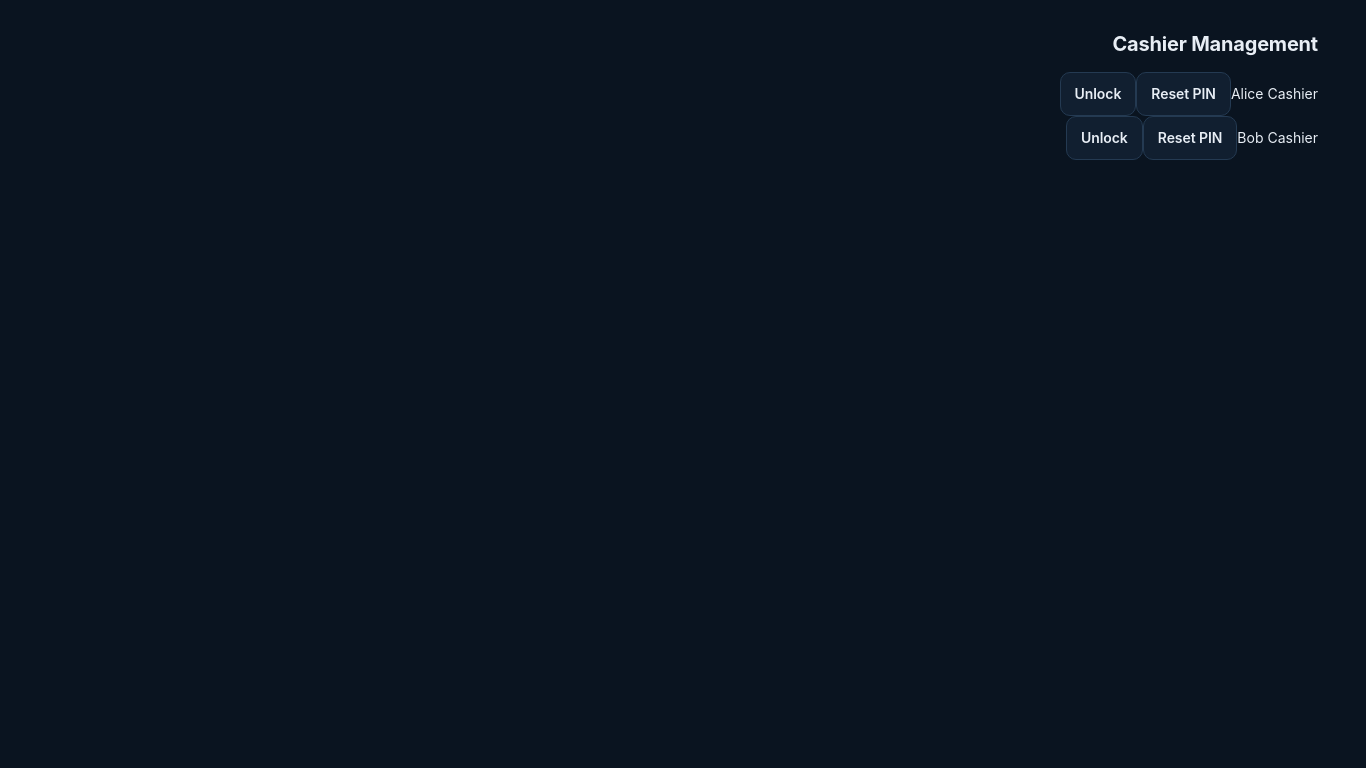
Test: CashierManagement (T078) › Reset PIN action (T072 bridge) › shows generic error message on refused (no category in DOM)
The image size is (1366, 768).
Expected: the text "Alice Cashier" is shown, x1=1231 y1=85 x2=1318 y2=102
Click the button "Reset PIN" next to "Alice Cashier" at (1184, 94), box x1=1136 y1=72 x2=1231 y2=116
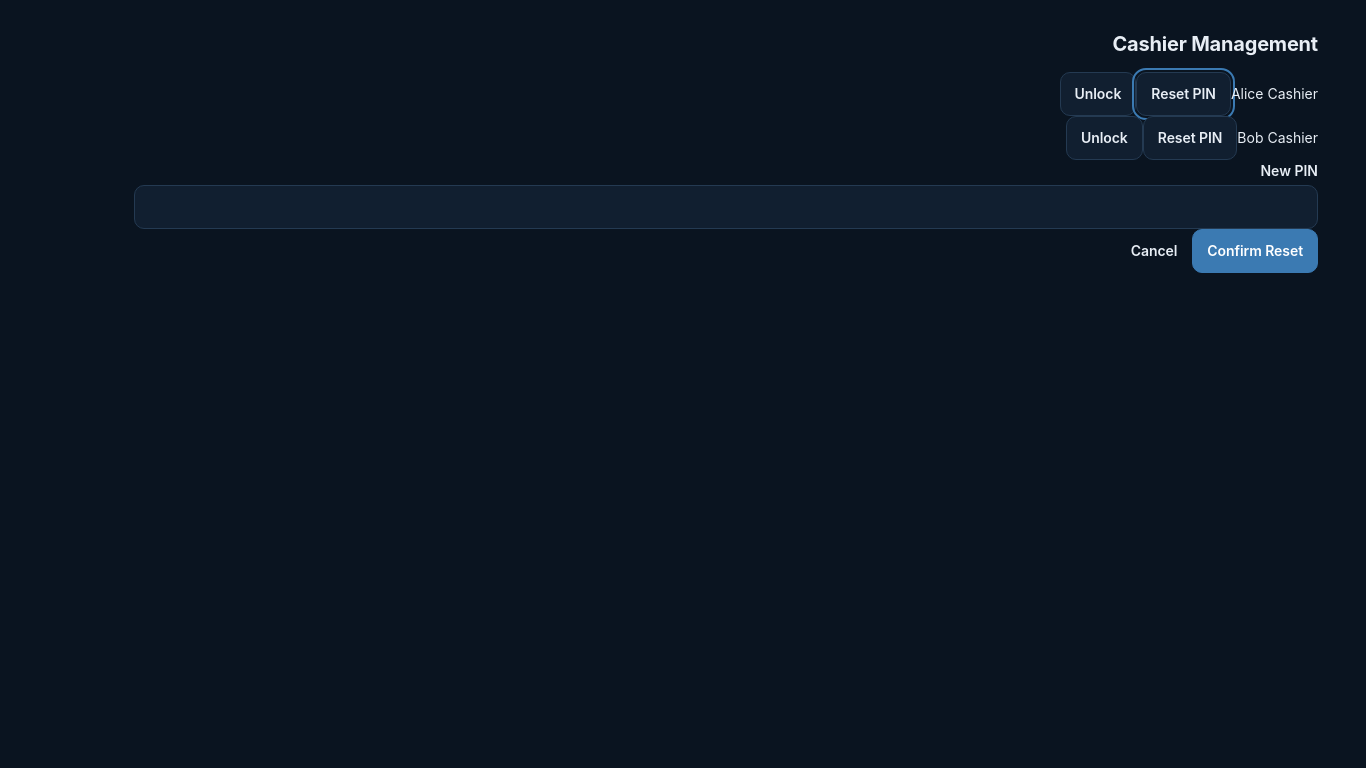
Type "0000" into the password field labelled "New PIN" at (726, 207), box x1=134 y1=185 x2=1318 y2=229
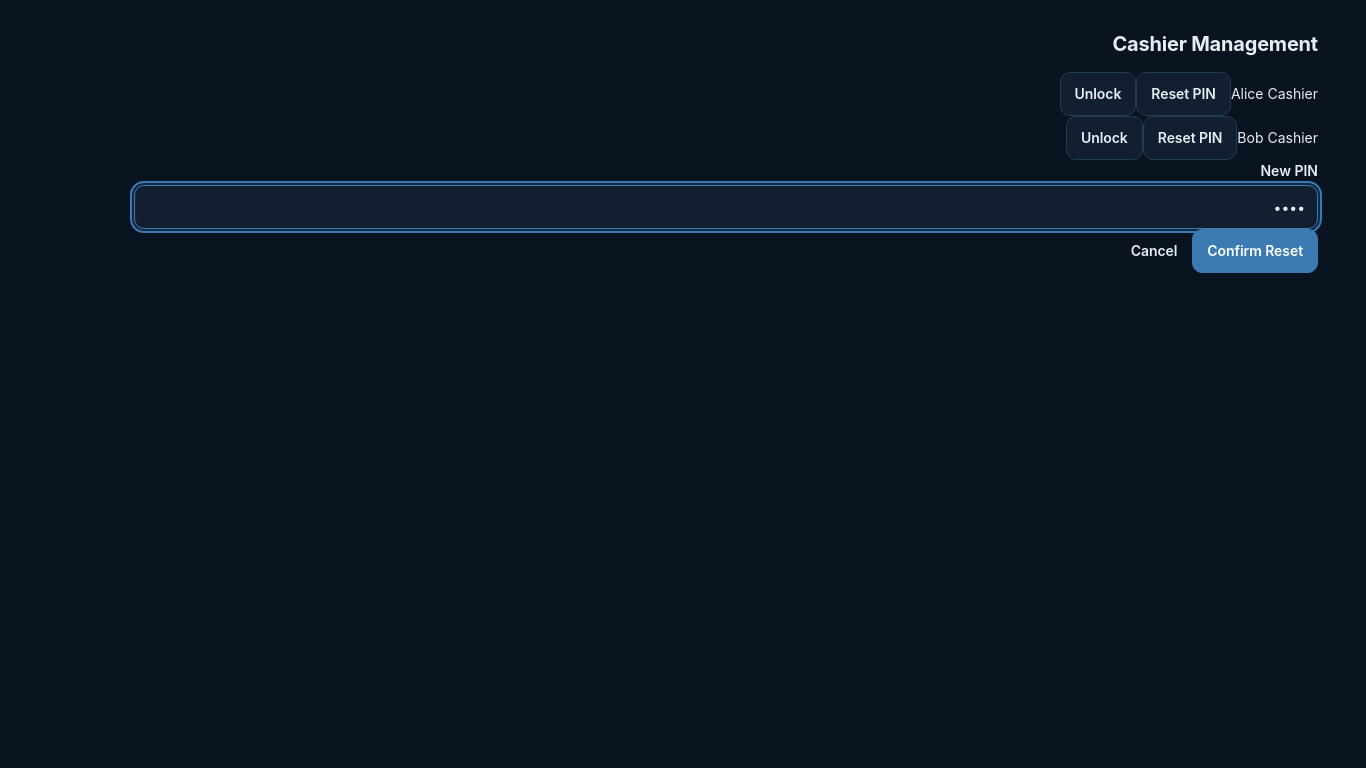
Click the button "Confirm Reset" at (1255, 251), box x1=1192 y1=229 x2=1318 y2=273
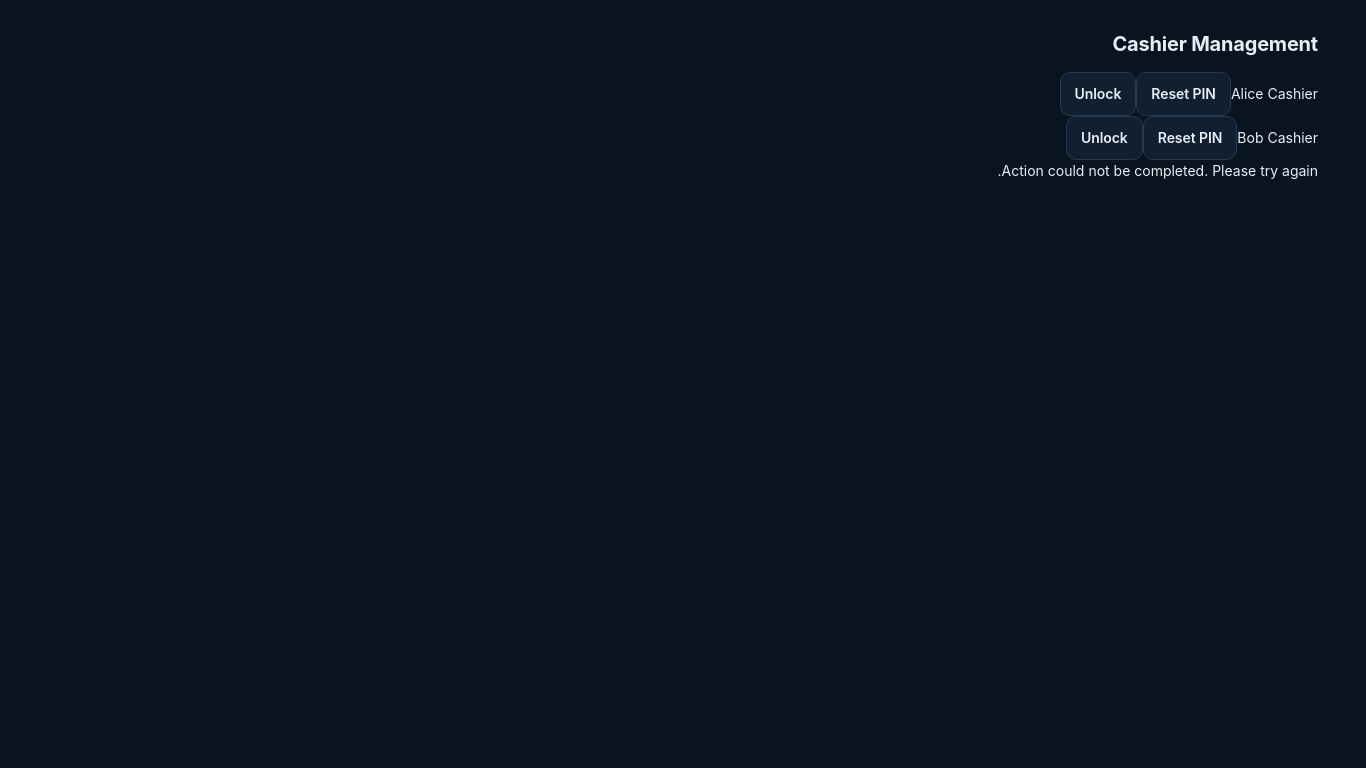
Expected: the message "Action could not be completed. Please try again." is shown, x1=998 y1=162 x2=1318 y2=179
